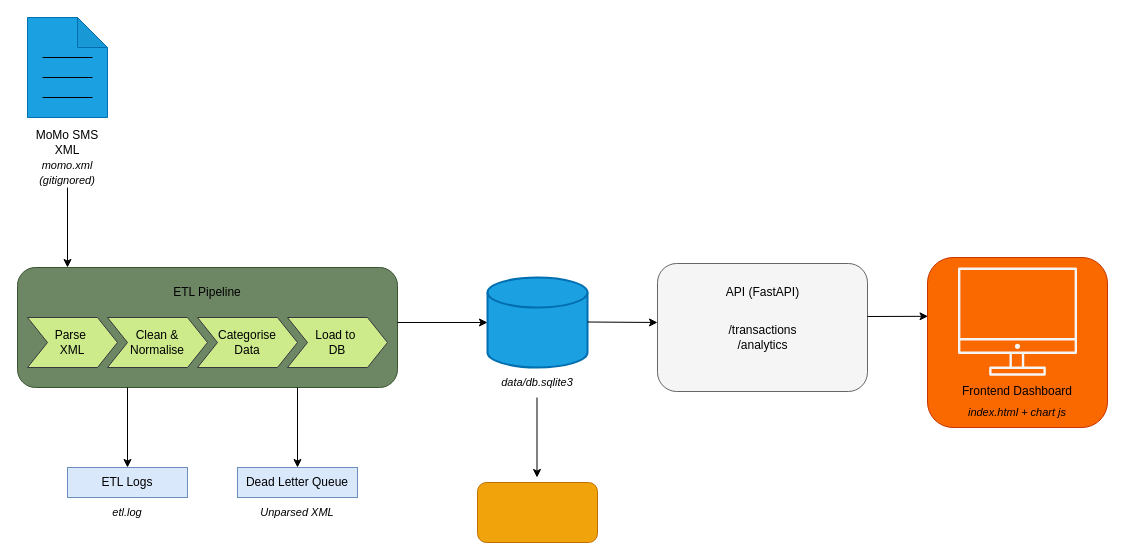
This 1125x560 diagram has some shape labels left out. The centre of each missing label's shape, as x and y in pixels:
"Processed Data (JSON)" belongs at (x=537, y=512).
"SQLite Database" belongs at (x=537, y=322).
